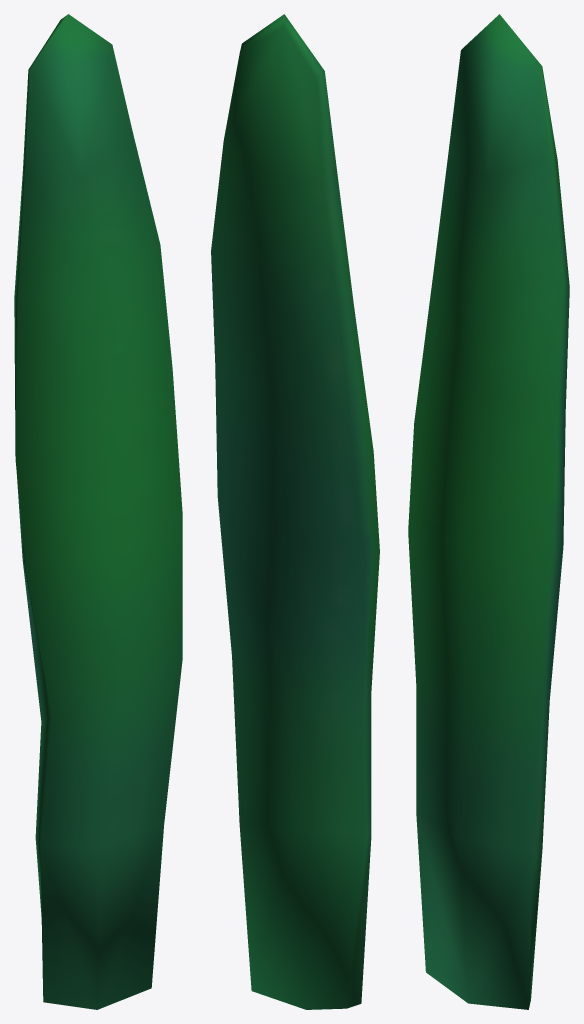
File: seaweed.fbx
The picture shows the model from 3 angles, left to right: view 1: azimuth 30°, elevation 25°; view 2: azimuth 150°, elevation 25°; view 3: azimuth 330°, elevation 25°; orthographic projection. The views are drawn at different scales.
Parts seen in each view (by area): view 1: seaweed; view 2: seaweed; view 3: seaweed.
Boxes of the visible parts, box(x1,y1,x2,y2) form: seaweed: box(14, 14, 182, 1009); seaweed: box(211, 14, 379, 1009); seaweed: box(408, 14, 569, 1009).
Bounding box in the file's own units: 25.05 × 151 × 14.33.
